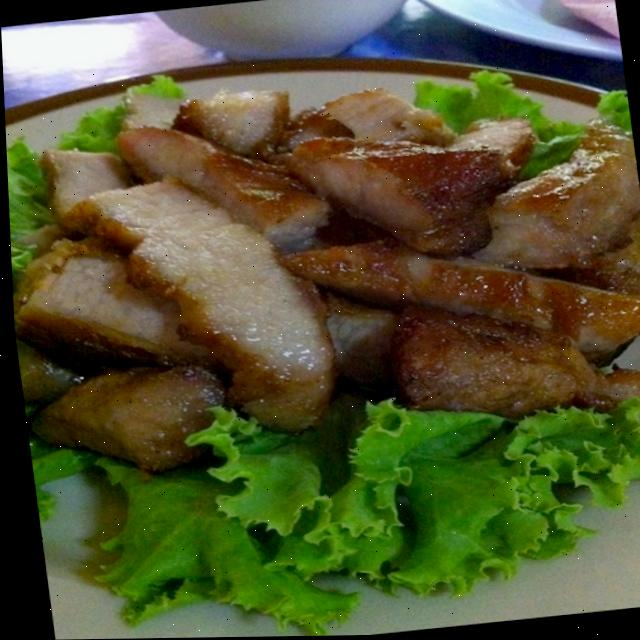猪肉菜式: (0, 3, 640, 542)
